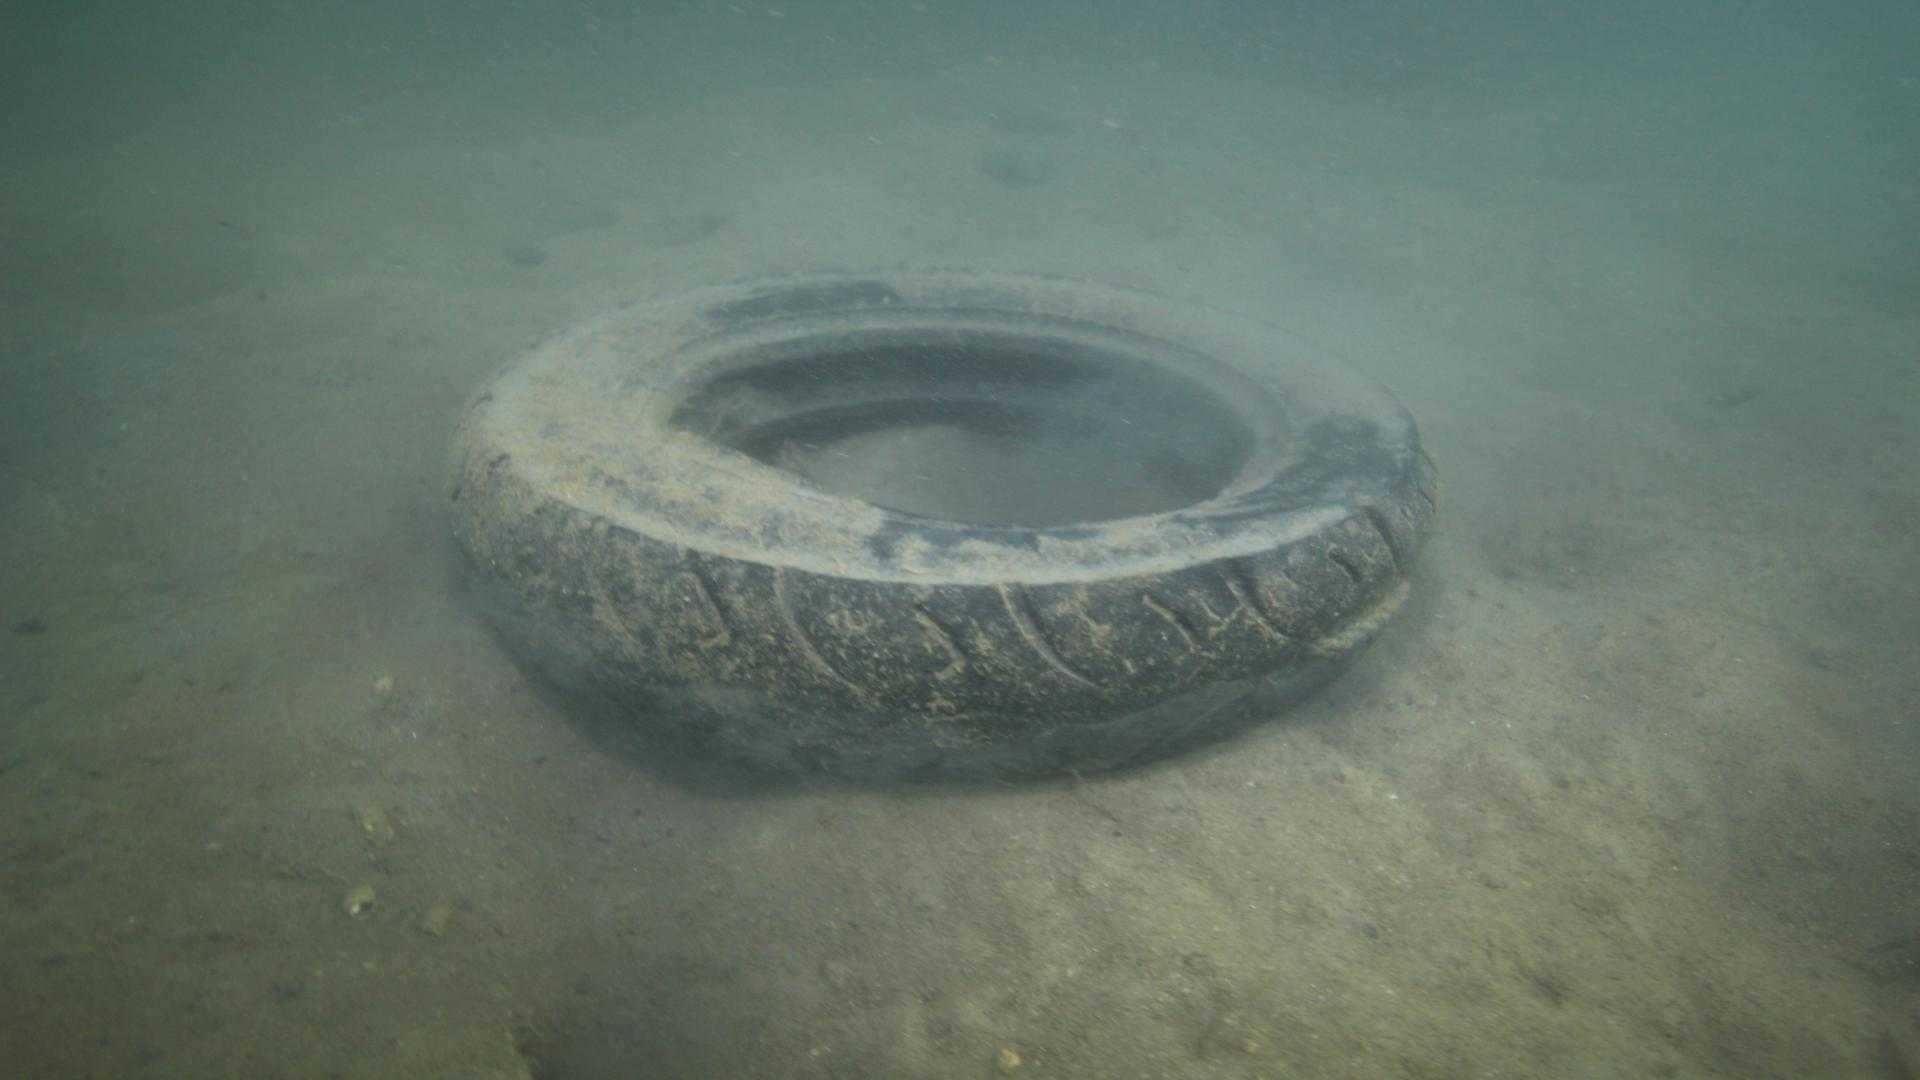tire: (443, 262, 1440, 789)
